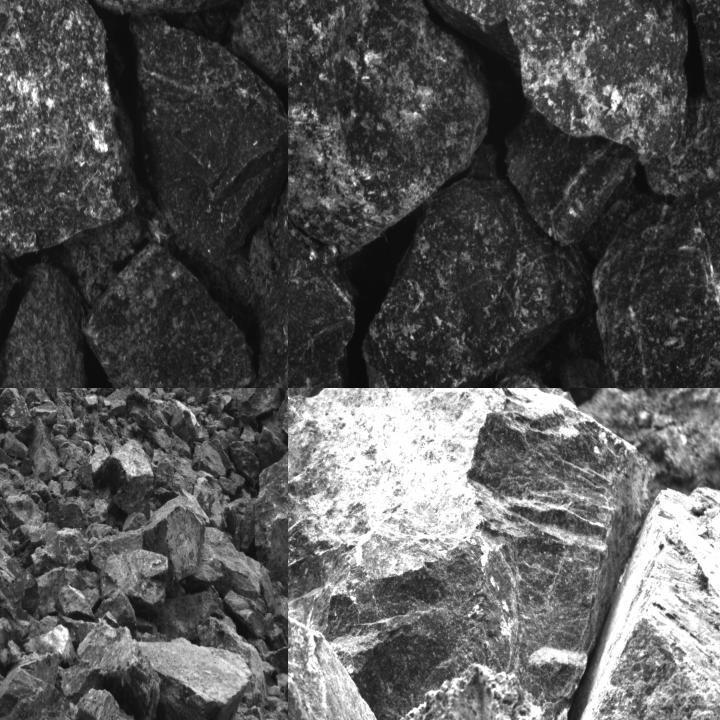stone: (288, 388, 656, 719), (362, 144, 590, 387), (288, 0, 491, 254), (399, 0, 690, 166), (126, 16, 287, 255), (0, 0, 137, 255), (593, 161, 719, 387), (504, 98, 661, 251), (86, 246, 249, 387), (288, 193, 361, 387), (230, 142, 287, 387), (0, 260, 88, 387), (59, 619, 162, 719), (133, 637, 246, 719), (644, 82, 719, 198), (141, 492, 207, 590), (151, 450, 229, 529), (254, 438, 287, 619), (191, 526, 267, 602), (0, 656, 77, 719), (99, 550, 168, 618), (100, 440, 154, 520), (156, 589, 225, 640), (221, 587, 270, 646), (30, 528, 91, 575), (166, 399, 210, 446), (226, 491, 257, 553), (233, 388, 282, 422), (227, 438, 260, 488), (54, 586, 100, 621), (3, 396, 35, 442), (192, 440, 227, 478), (258, 426, 287, 470), (266, 637, 287, 693), (217, 470, 246, 499), (120, 388, 150, 406), (185, 388, 214, 405)
